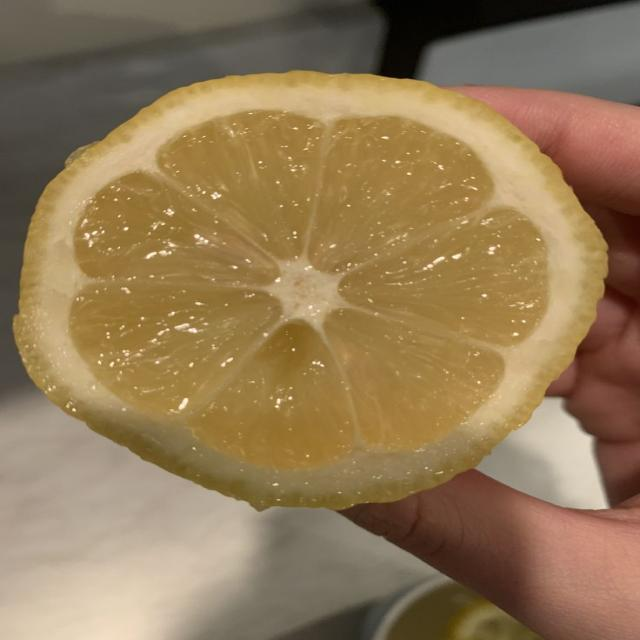lemon: (15, 72, 605, 507), (447, 601, 539, 639)
